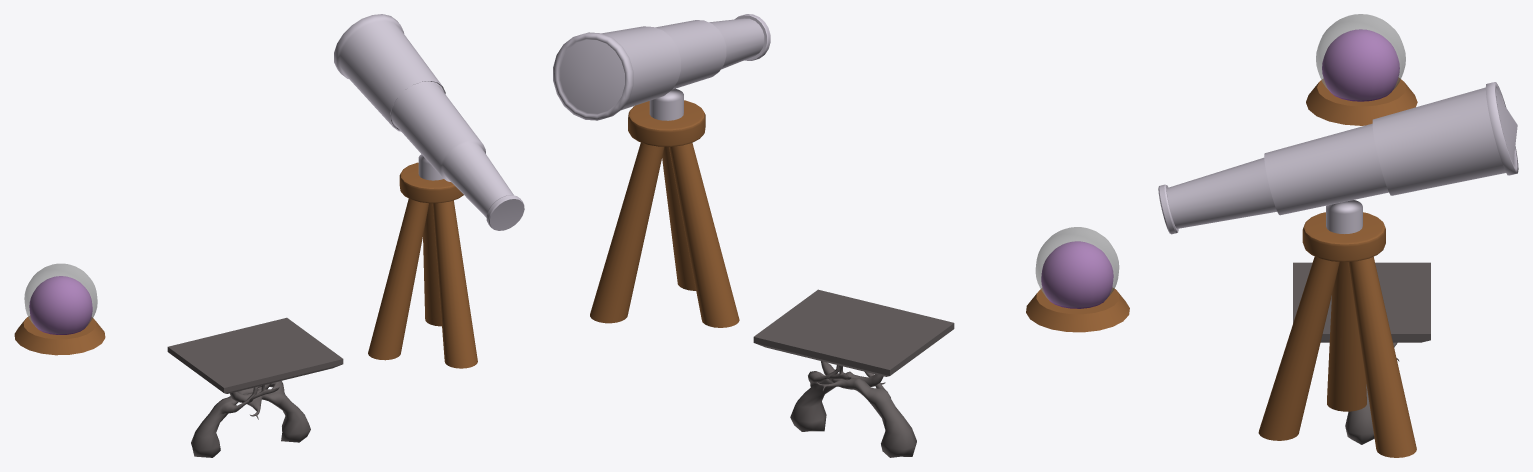
The model's file is bedroom_tbn.fbx.
3 renders of one model, left to right at view 1: azimuth 30°, elevation 25°; view 2: azimuth 150°, elevation 25°; view 3: azimuth 270°, elevation 25°, orthographic. The views are drawn at different scales.
Parts seen in each view (by area): view 1: pCylinder8, nightstand2, pCylinder54, pCylinder53, pSphere1, pSphere2, pCylinder12, nightstand3, nightstand4, pCylinder9, pCylinder5; view 2: pCylinder8, nightstand2, pCylinder53, pCylinder9, pSphere1, pSphere2, pCylinder12, nightstand3, pCylinder5, nightstand4, pCylinder54, pCylinder6; view 3: pCylinder8, pCylinder9, pCylinder54, pSphere1, nightstand2, pSphere2, pCylinder53, pCylinder5, pCylinder12, pCylinder6, nightstand4.
Part boxes in pixels (box(x1,y1,x2,y2)): pCylinder8: box(334, 14, 524, 230); nightstand2: box(167, 317, 343, 393); pCylinder54: box(432, 200, 477, 368); pCylinder53: box(368, 198, 428, 360); pSphere1: box(24, 263, 97, 333); pSphere2: box(29, 276, 92, 334); pCylinder12: box(14, 316, 105, 355); nightstand3: box(191, 383, 279, 457); nightstand4: box(230, 381, 310, 442); pCylinder9: box(423, 203, 441, 326); pCylinder5: box(399, 162, 463, 203); pCylinder8: box(553, 14, 770, 120); nightstand2: box(753, 289, 954, 376); pCylinder53: box(669, 143, 739, 327); pCylinder9: box(590, 142, 664, 323); pSphere1: box(1035, 227, 1119, 307); pSphere2: box(1041, 241, 1113, 308); pCylinder12: box(1026, 287, 1129, 332); nightstand3: box(816, 361, 916, 457); pCylinder5: box(628, 100, 705, 146); nightstand4: box(790, 365, 885, 431); pCylinder54: box(662, 146, 695, 290); pCylinder6: box(649, 88, 683, 120); pCylinder8: box(1158, 82, 1518, 234); pCylinder9: box(1348, 256, 1416, 457); pCylinder54: box(1258, 256, 1339, 440); pSphere1: box(1316, 14, 1405, 100); nightstand2: box(1293, 262, 1430, 342); pSphere2: box(1322, 29, 1399, 101); pCylinder53: box(1327, 262, 1366, 411); pCylinder5: box(1302, 212, 1385, 261); pCylinder12: box(1306, 77, 1417, 125); pCylinder6: box(1326, 200, 1362, 233); nightstand4: box(1345, 342, 1397, 444).
Bounding box in the file's own units: 93.78 × 70.57 × 53.14.
